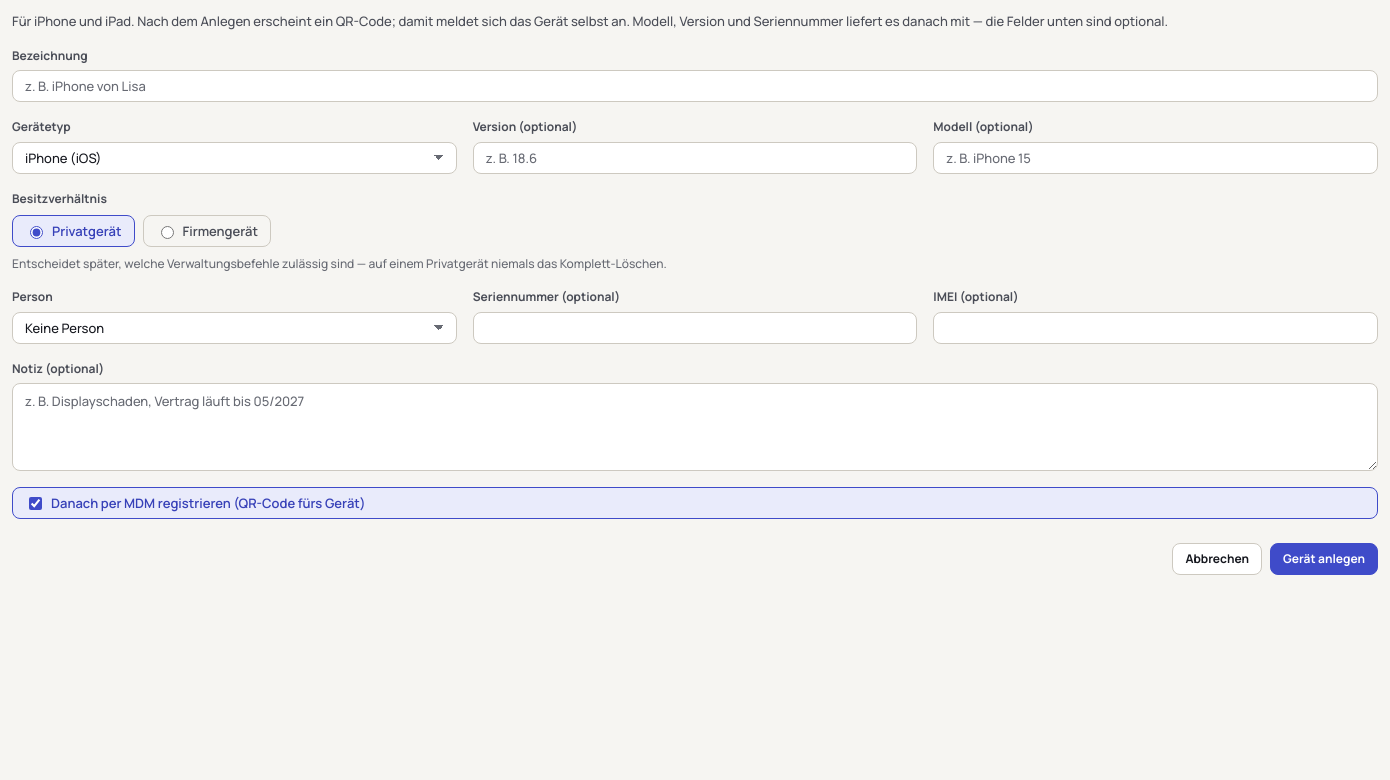
Test case: MobileDeviceForm › with MDM › stays an index card when the admin opts out
In the field labelled "Bezeichnung": (695, 86) [12, 70, 1378, 102], type "iPhone Lisa"
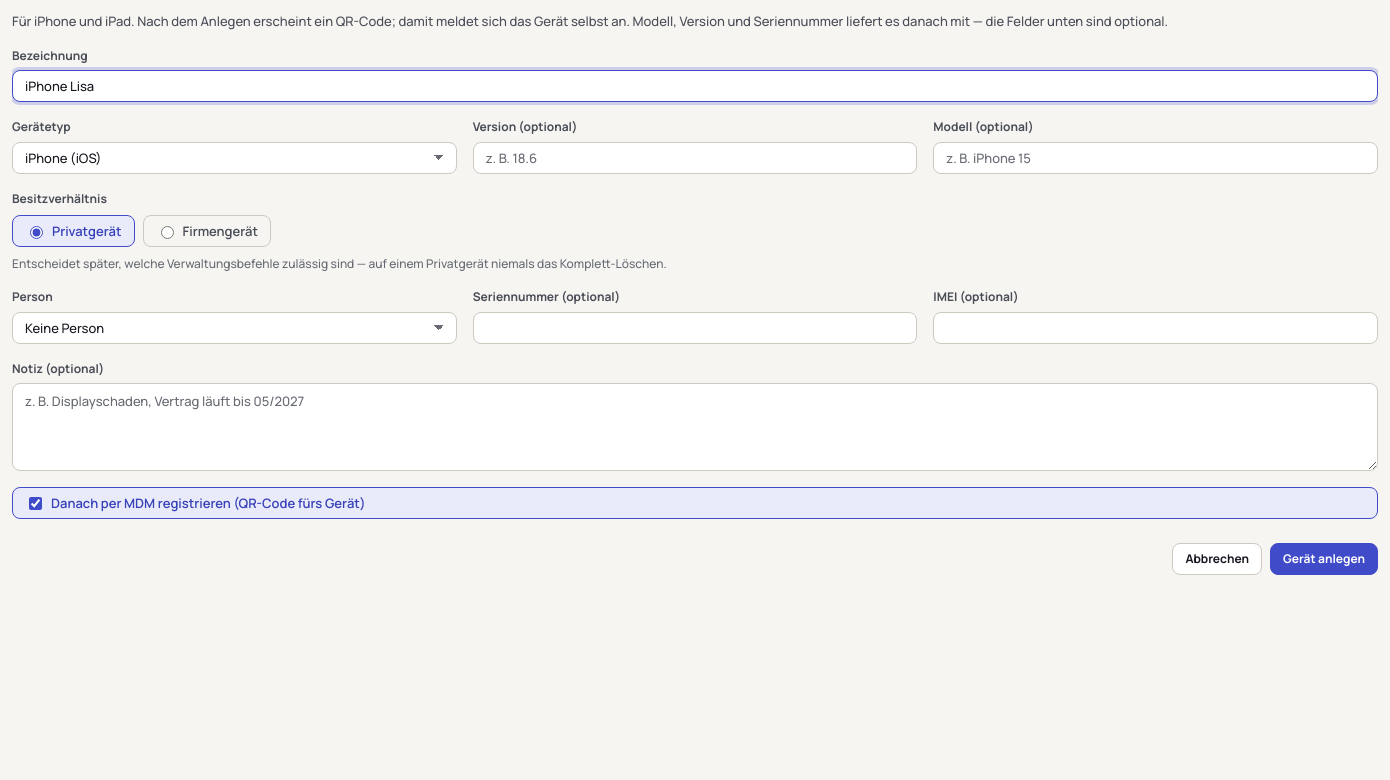
Click the checkbox labelled "Danach per MDM registrieren (QR-Code fürs Gerät)": (36, 503) [29, 497, 42, 510]
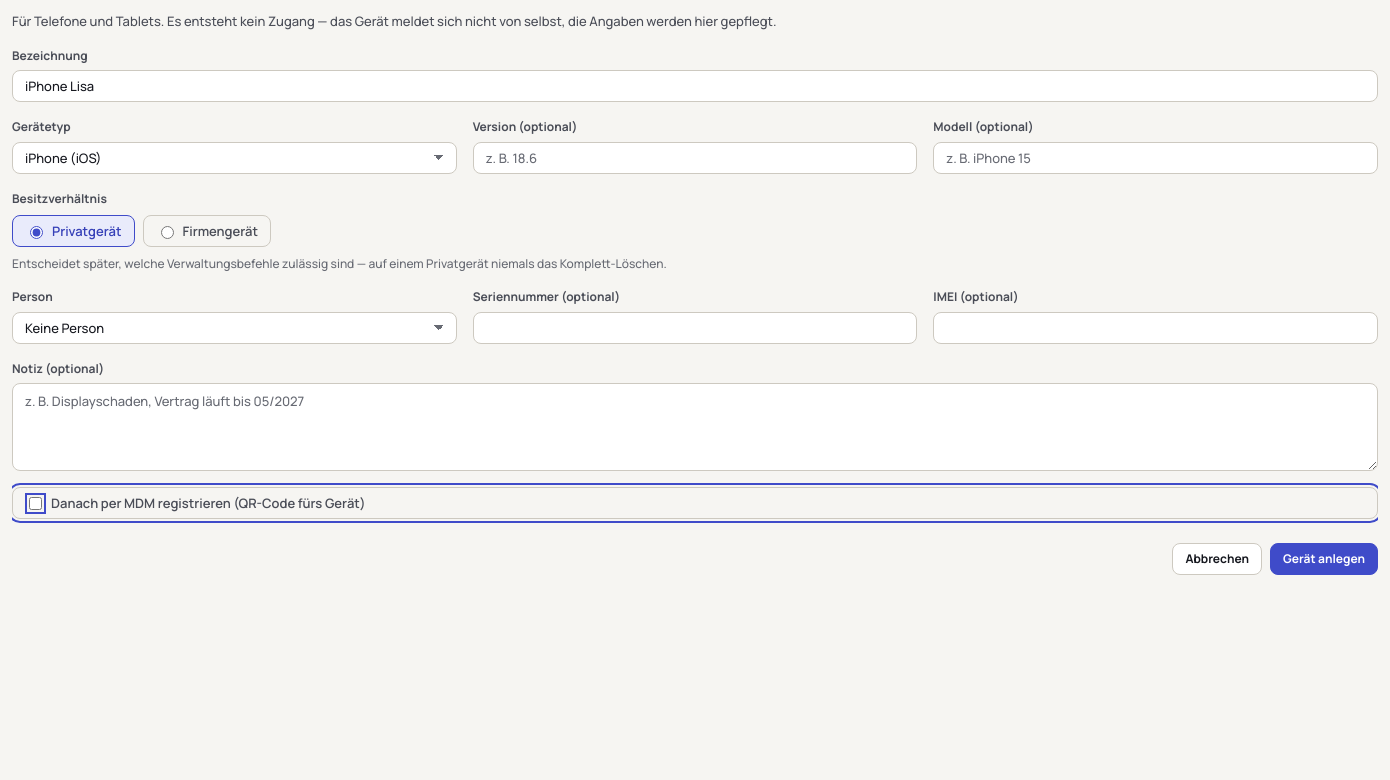
Click the button "Gerät anlegen": (1324, 559) [1270, 543, 1378, 575]
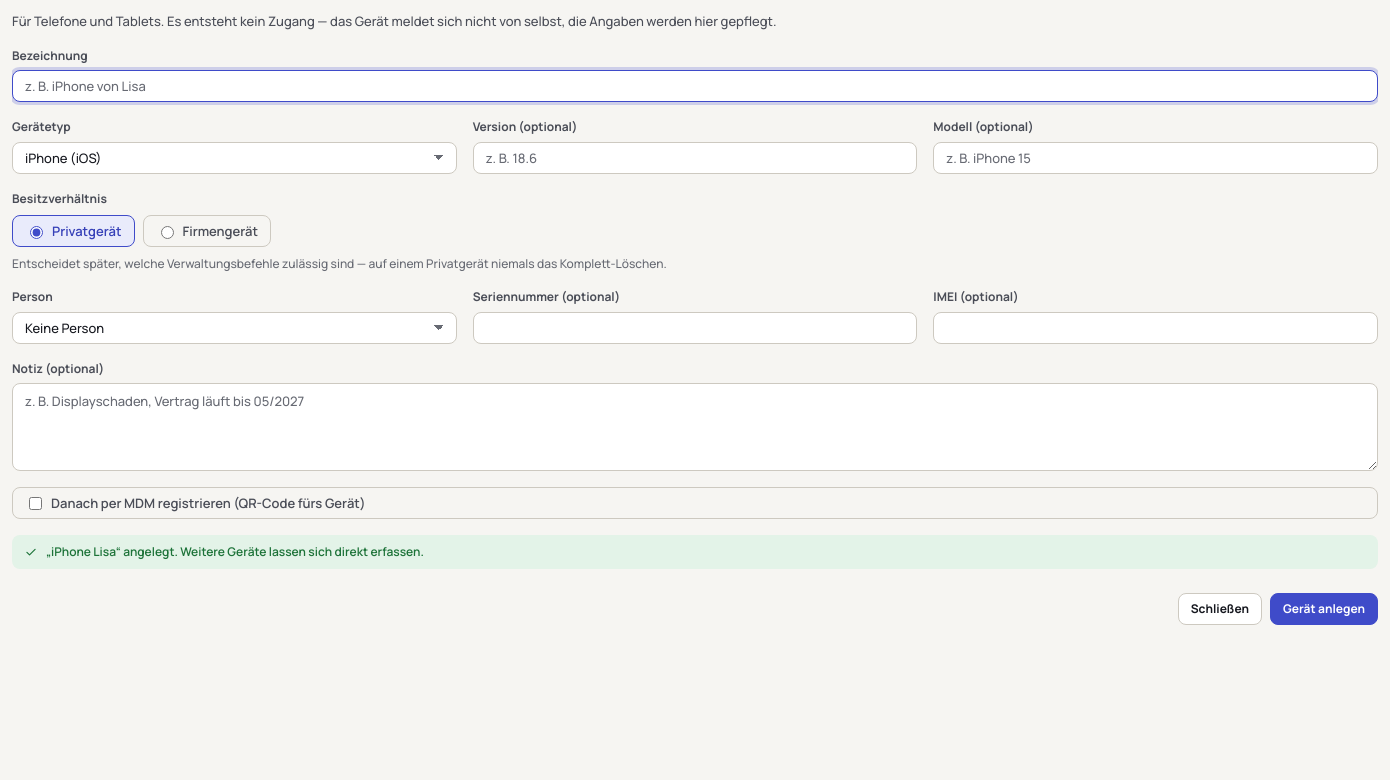
Now the text "„iPhone Lisa“ angelegt" is shown, box [46, 543, 424, 561]
